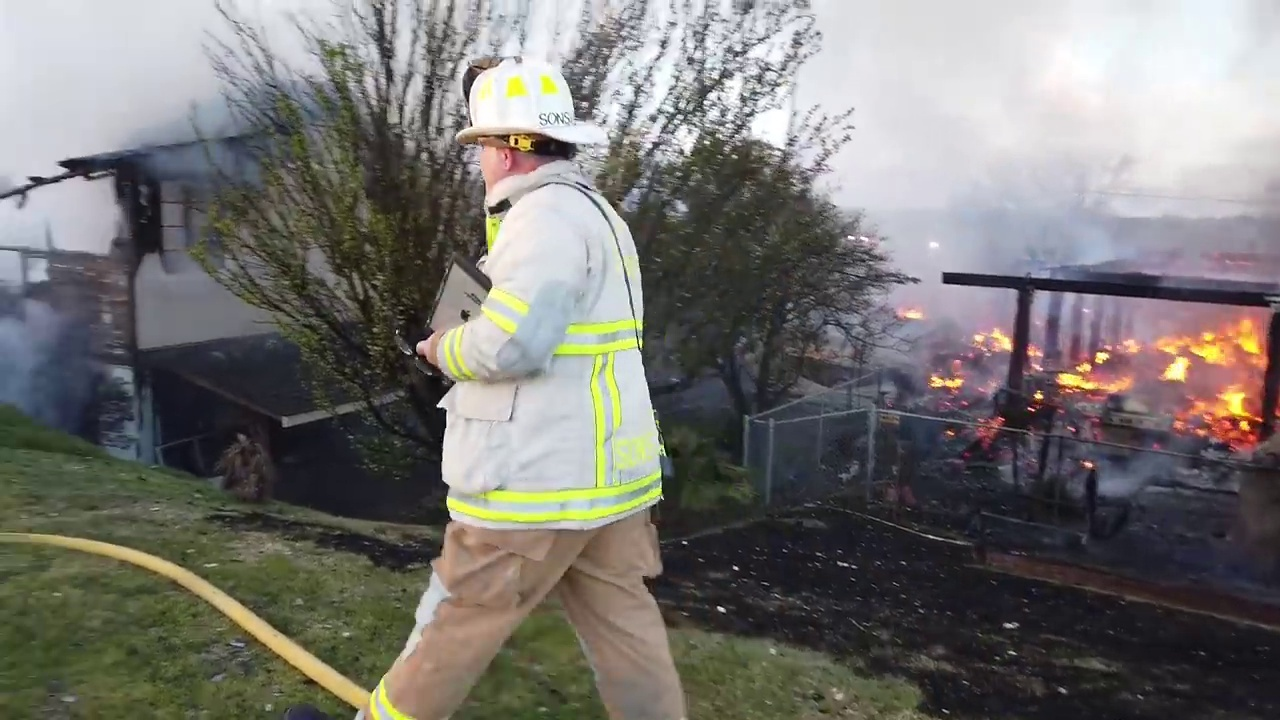fire: (905, 306, 1277, 443), (897, 304, 921, 316)
smoke: (817, 1, 1280, 305), (1, 2, 341, 279), (997, 444, 1204, 515), (1, 278, 70, 419)
